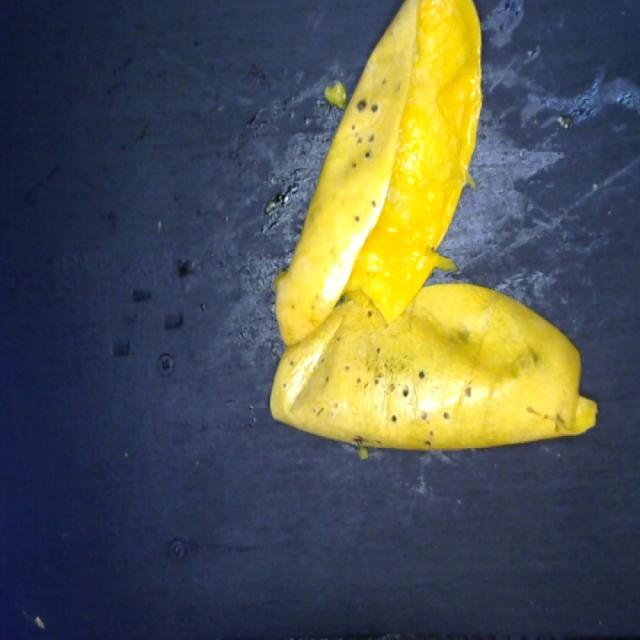biodegradable: (266, 0, 610, 452)
